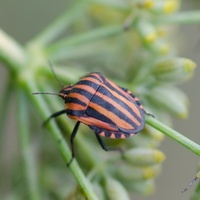insect: (32, 72, 146, 164)
